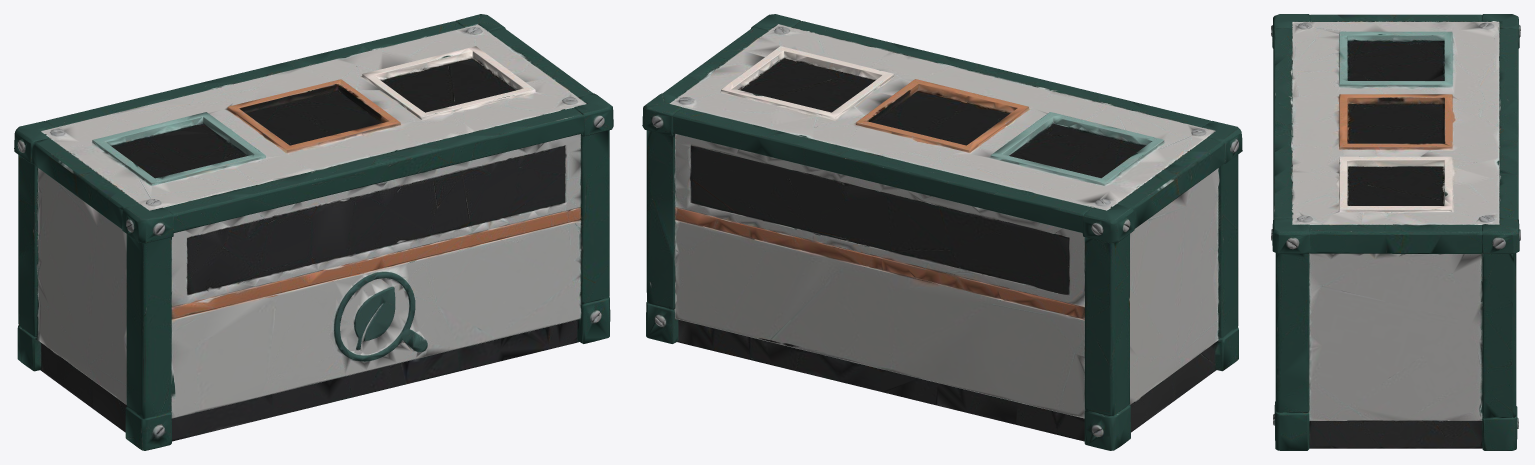
File: evidence-counter.glb
The picture shows the model from 3 angles, left to right: view 1: azimuth 30°, elevation 25°; view 2: azimuth 150°, elevation 25°; view 3: azimuth 270°, elevation 25°; orthographic projection. The views are drawn at different scales.
Size of the model in its own units: 1.9 by 0.8926 by 0.906.
Materials: 1 (1 with a texture image).
